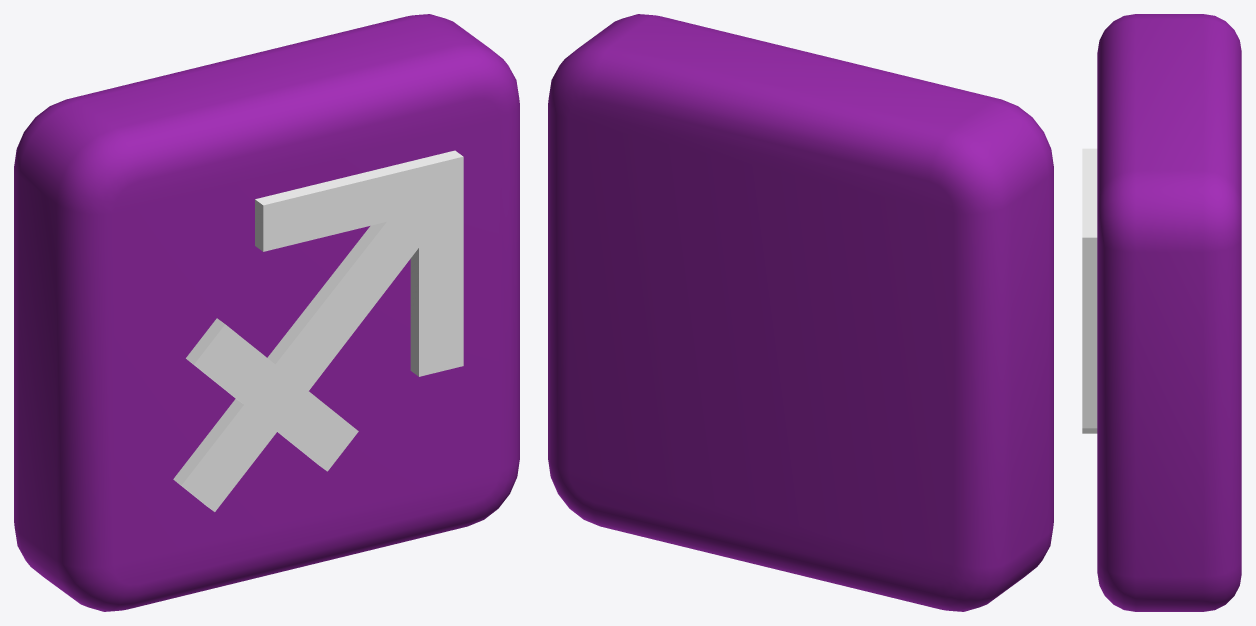
File: sagittarius.glb
The picture shows the model from 3 angles, left to right: view 1: azimuth 30°, elevation 25°; view 2: azimuth 150°, elevation 25°; view 3: azimuth 270°, elevation 25°; orthographic projection. The views are drawn at different scales.
Parts seen in each view (by area): view 1: Cube.6407; view 2: Cube.6407; view 3: Cube.6407.
Part boxes in pixels (left/top/right/bottom): Cube.6407: left=14, top=14, right=519, bottom=611; Cube.6407: left=548, top=14, right=1053, bottom=611; Cube.6407: left=1082, top=14, right=1241, bottom=611.
Size of the model in its own units: 2.2 by 2.2 by 0.73.
Materials: 1 (1 with a texture image).
